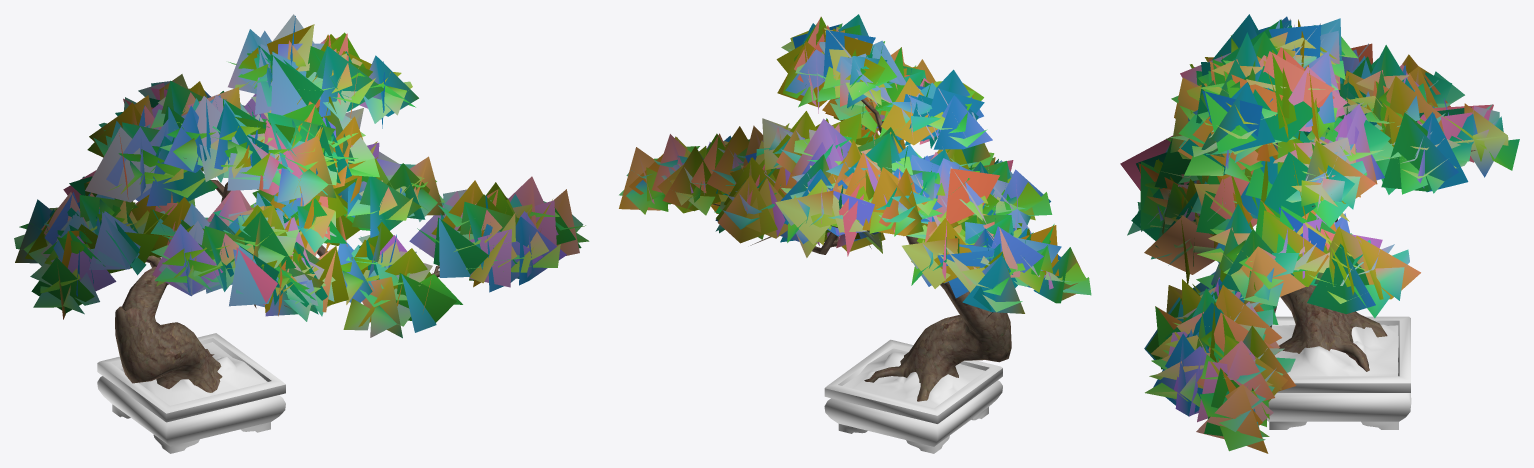
The model's file is Homeworld_Exterior_Ly_Decoration_Vase_06_Lod0.fbx.
3 views of the same model, side by side, from view 1: azimuth 30°, elevation 25°; view 2: azimuth 150°, elevation 25°; view 3: azimuth 270°, elevation 25° (orthographic). The views are drawn at different scales.
Visible parts, largest first — view 1: Area_Ly_Tree_Common_Pt_06_Leaf_Lod0, Area_Ly_Prop_LYG_Common_Potted_01_Lod0, Area_Ly_Tree_Common_Pt_06_Bark_Lod0; view 2: Area_Ly_Tree_Common_Pt_06_Leaf_Lod0, Area_Ly_Prop_LYG_Common_Potted_01_Lod0, Area_Ly_Tree_Common_Pt_06_Bark_Lod0; view 3: Area_Ly_Tree_Common_Pt_06_Leaf_Lod0, Area_Ly_Prop_LYG_Common_Potted_01_Lod0, Area_Ly_Tree_Common_Pt_06_Bark_Lod0.
Part boxes in pixels (x1,y1,x2,y2): Area_Ly_Tree_Common_Pt_06_Leaf_Lod0: [14, 14, 589, 338]; Area_Ly_Prop_LYG_Common_Potted_01_Lod0: [97, 333, 285, 453]; Area_Ly_Tree_Common_Pt_06_Bark_Lod0: [115, 158, 439, 392]; Area_Ly_Tree_Common_Pt_06_Leaf_Lod0: [619, 14, 1091, 313]; Area_Ly_Prop_LYG_Common_Potted_01_Lod0: [824, 339, 1002, 453]; Area_Ly_Tree_Common_Pt_06_Bark_Lod0: [713, 99, 1011, 401]; Area_Ly_Tree_Common_Pt_06_Leaf_Lod0: [1120, 14, 1519, 453]; Area_Ly_Prop_LYG_Common_Potted_01_Lod0: [1267, 316, 1411, 429]; Area_Ly_Tree_Common_Pt_06_Bark_Lod0: [1270, 150, 1475, 371].
Bounding box in the file's own units: 10.58 × 7.47 × 6.26.
